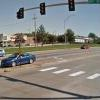Crosswalk: (34, 59, 98, 82)
